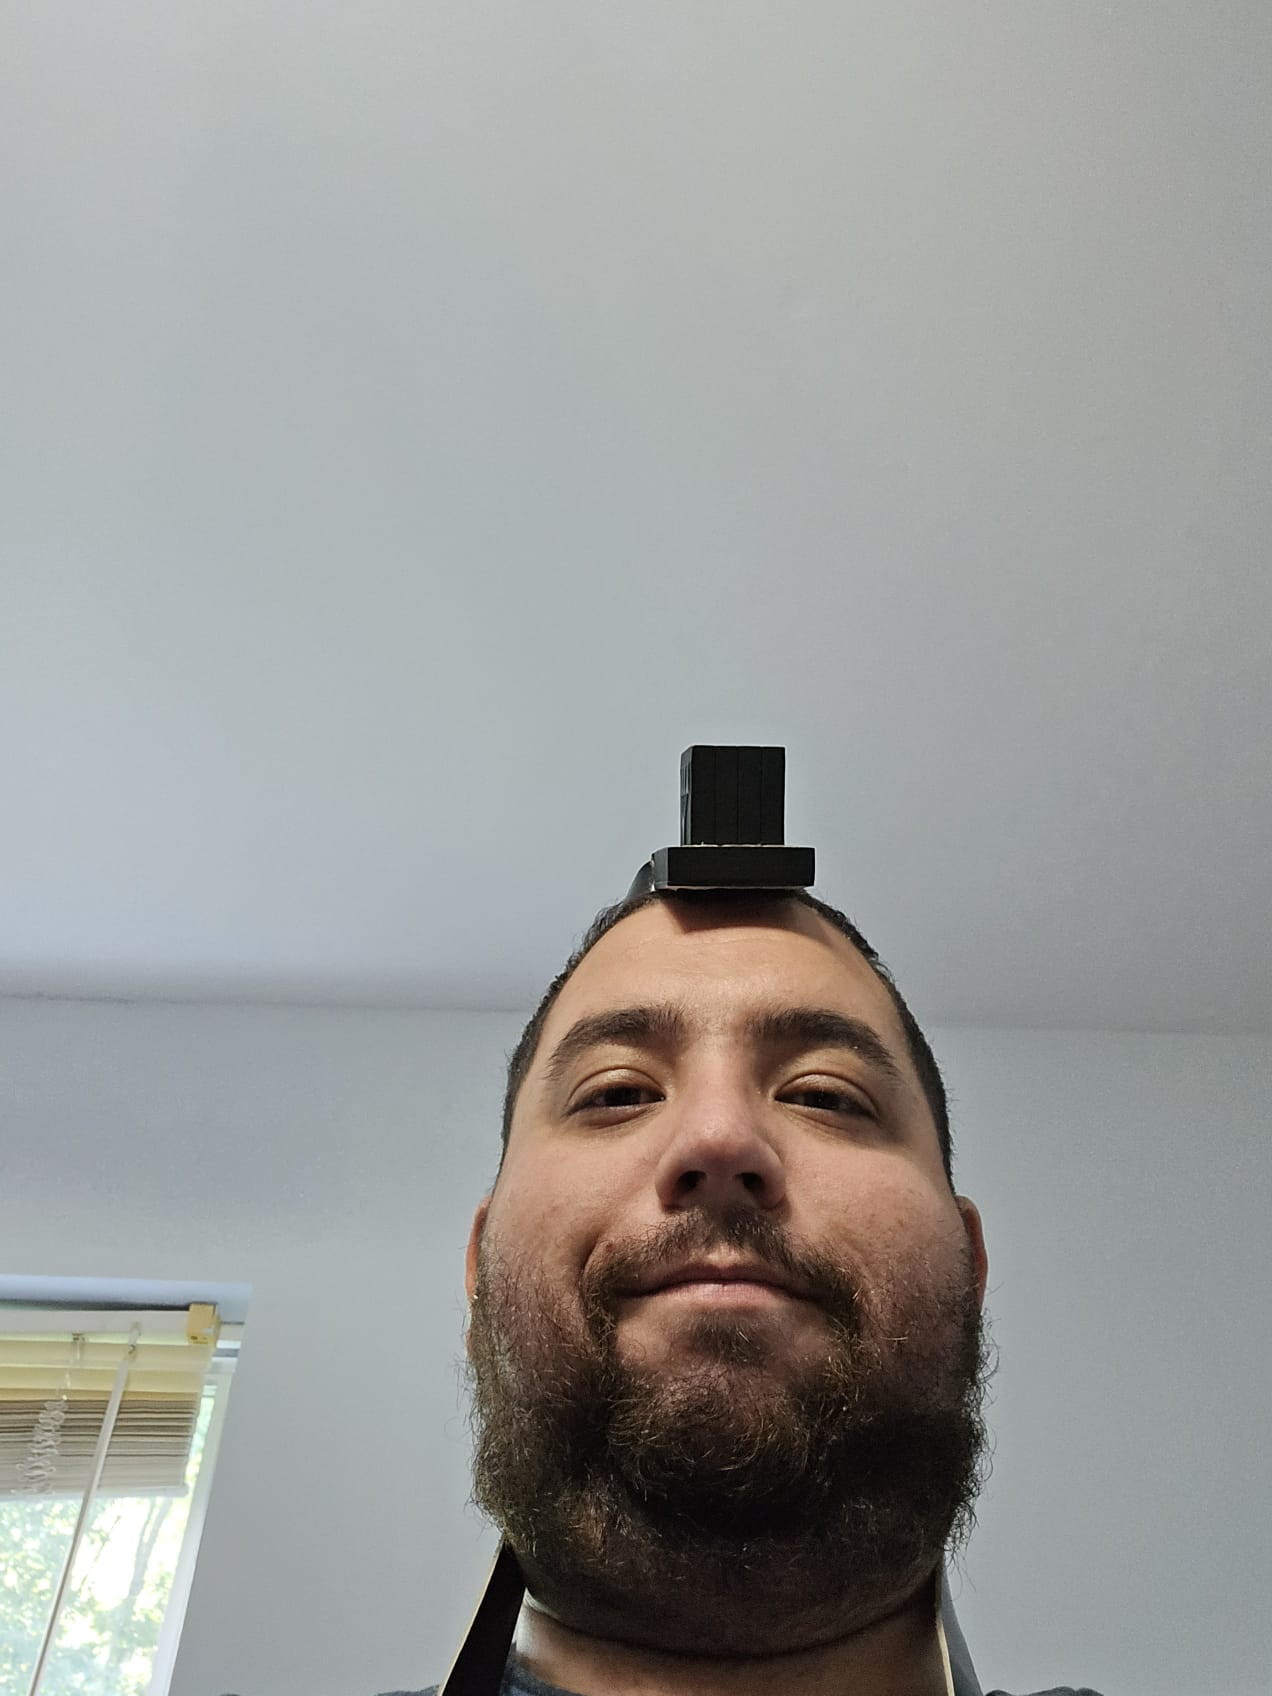tefillin: (660, 741, 823, 897)
